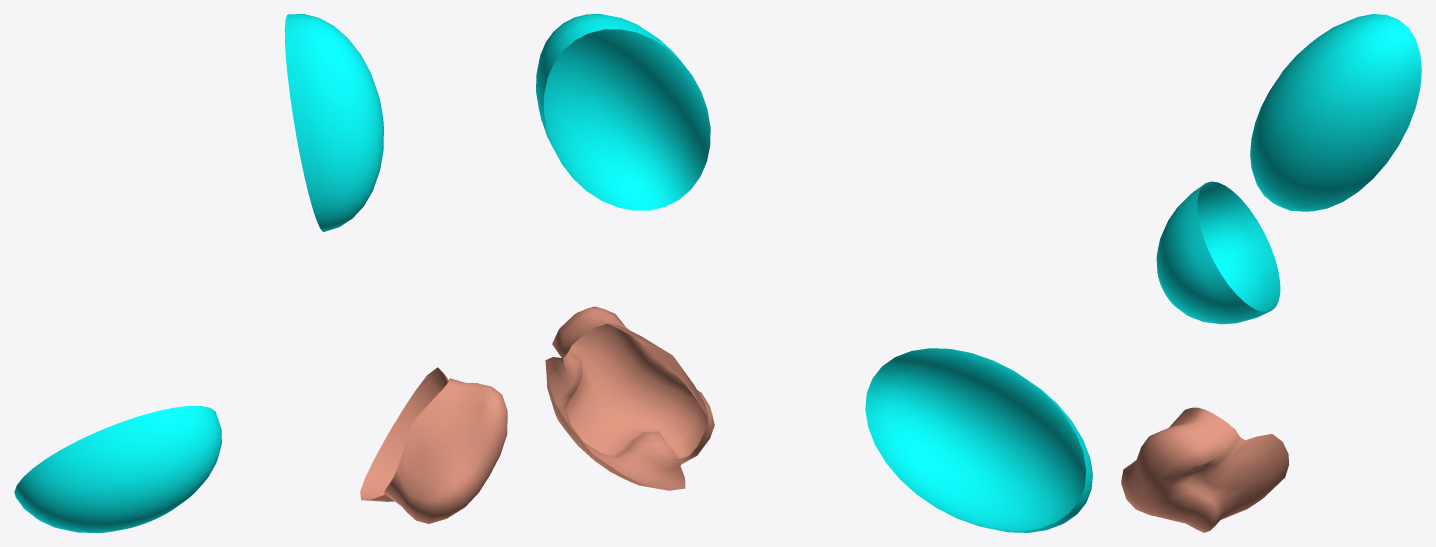
The model's file is MSH_ojos-nariz.FBX.
The picture shows the model from 3 angles, left to right: view 1: azimuth 30°, elevation 25°; view 2: azimuth 150°, elevation 25°; view 3: azimuth 270°, elevation 25°; orthographic projection. The views are drawn at different scales.
Parts seen in each view (by area): view 1: Sphere013, Bip001 Head, Sphere001; view 2: Sphere013, Bip001 Head, Sphere001; view 3: Bip001 Head, Sphere001, Sphere013.
Part boxes in pixels (box(x1,y1,x2,y2)): Sphere013: box(14, 406, 221, 532); Bip001 Head: box(284, 14, 383, 231); Sphere001: box(360, 367, 507, 523); Sphere013: box(865, 348, 1092, 532); Bip001 Head: box(536, 14, 710, 210); Sphere001: box(545, 306, 714, 490); Bip001 Head: box(1250, 14, 1421, 211); Sphere001: box(1121, 407, 1288, 532); Sphere013: box(1156, 181, 1280, 324).
Bounding box in the file's own units: 124 × 114 × 64.45.
